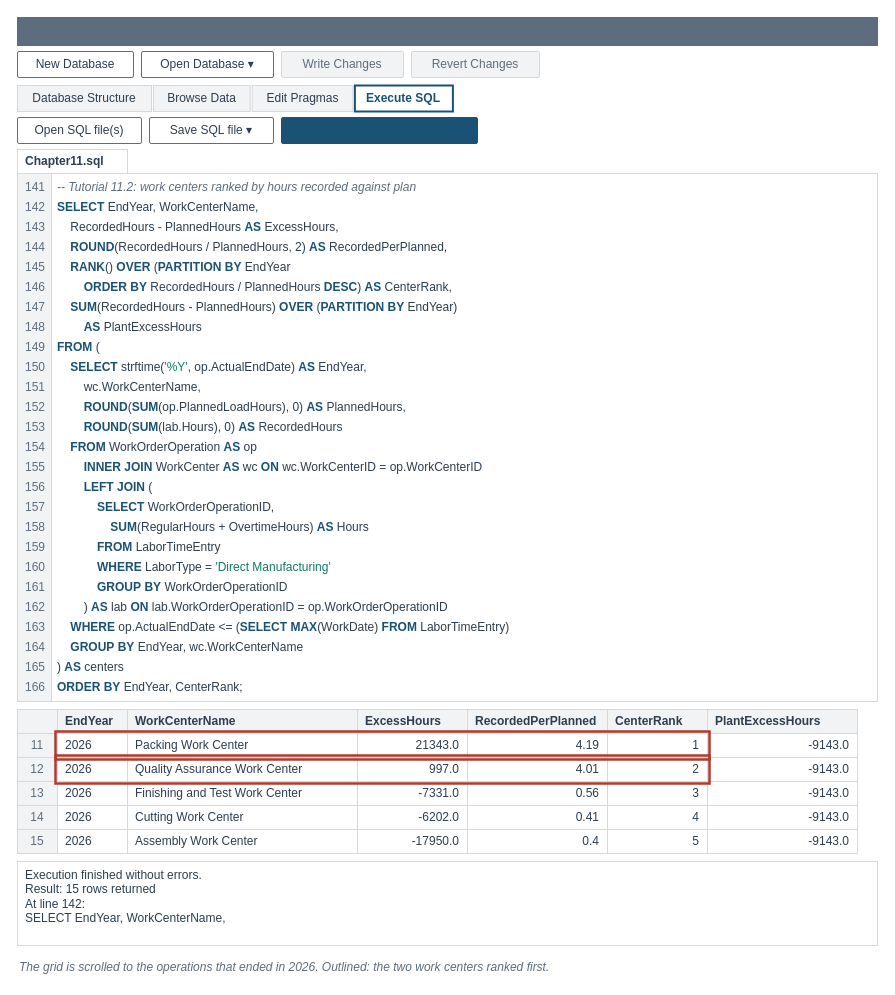
Some shapes in this 895 by 995 pixel diagram are drawn without their labels. The centre of each missing label's shape, as x and y in pixels:
"DB Browser for SQLite - C:\Users\you\Documents\CharlesRiver_Work.sqlite" belongs at pixel 447 31.
"▶ Execute all/selected SQL" belongs at pixel 379 130.
